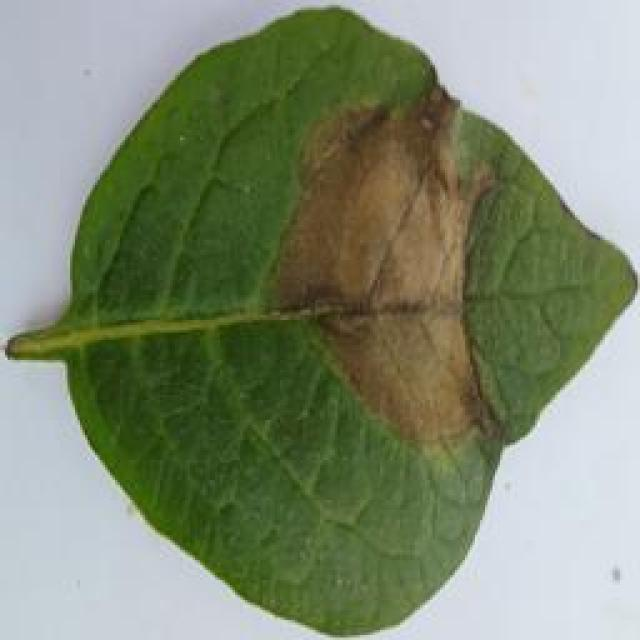Potato_Late_Blight: (9, 8, 628, 636)
